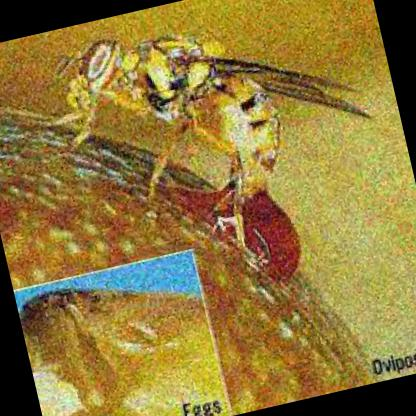fruit fly: (46, 31, 372, 211)
